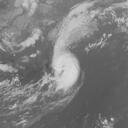cyclone: (52, 51, 81, 91)
